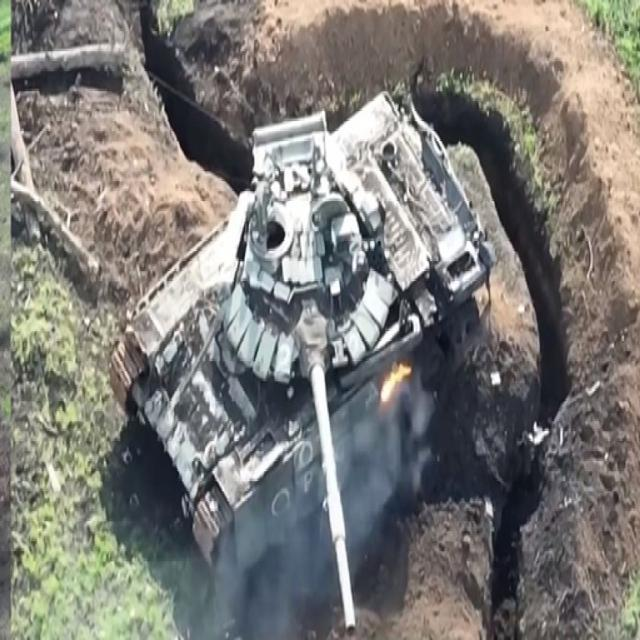TANK: (92, 75, 496, 636)
